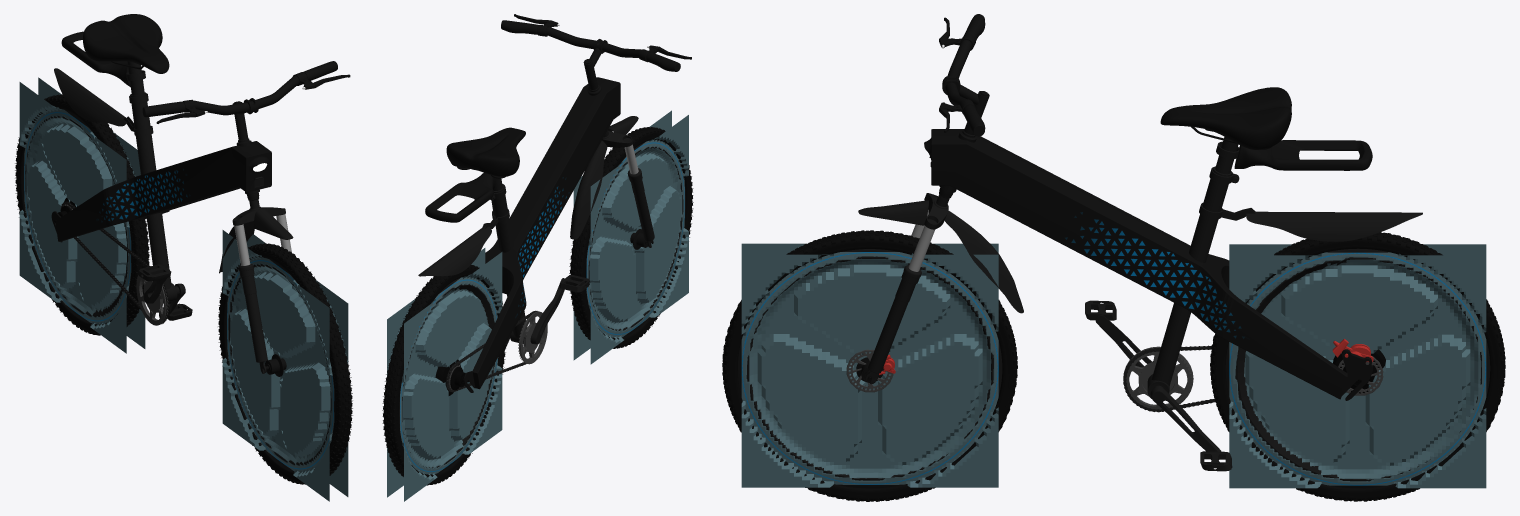
File: 1st_graphics_3_blue.glb
The picture shows the model from 3 angles, left to right: view 1: azimuth 30°, elevation 25°; view 2: azimuth 150°, elevation 25°; view 3: azimuth 270°, elevation 25°; orthographic projection. The views are drawn at different scales.
Parts seen in each view (by area): view 1: W 1st graphics 3, frame, treads front, treads rear, seat, seat joint, handle bar, Part1, rear fender, Cube.008, fender front, 1st graphics 3 (+8 smaller); view 2: W 1st graphics 3, frame, treads rear, treads front, seat, handle bar, fender front, Cube.008, rear fender, Part1, seat joint, alloy wheel.001 (+8 smaller); view 3: W 1st graphics 3, frame, treads front, treads rear, seat, seat joint, rear fender, alloy wheel.001, Cube.008, fender front, Part1, handle bar (+4 smaller).
Part boxes in pixels (x1,y1,x2,y2): W 1st graphics 3: (19,77,348,501); frame: (51,141,271,242); treads front: (218,243,352,484); treads rear: (15,94,149,335); seat: (83,14,169,73); seat joint: (126,61,179,303); handle bar: (142,61,350,123); Part1: (232,199,294,373); rear fender: (54,68,130,126); Cube.008: (61,31,130,86); fender front: (219,208,293,273); 1st graphics 3: (98,169,187,221); W 1st graphics 3: (387,110,688,501); frame: (463,77,620,392); treads rear: (382,265,506,485); treads front: (569,127,693,348); seat: (446,127,525,178); handle bar: (501,14,691,71); fender front: (570,116,638,239); Cube.008: (425,173,495,222); rear fender: (418,226,491,276); Part1: (602,130,654,247); seat joint: (490,178,527,343); alloy wheel.001: (399,278,494,472); W 1st graphics 3: (741,243,1486,488); frame: (932,129,1372,400); treads front: (722,230,1017,501); treads rear: (1210,232,1505,501); seat: (1160,87,1291,149); seat joint: (1147,136,1239,398); rear fender: (1246,211,1422,241); alloy wheel.001: (1225,248,1490,488); Cube.008: (1234,140,1372,170); fender front: (858,200,1023,313); Part1: (865,193,949,384); handle bar: (939,14,985,136).
Size of the model in its own units: 0.6041 by 1.07 by 1.77.
Materials: 13 (2 with a texture image).
